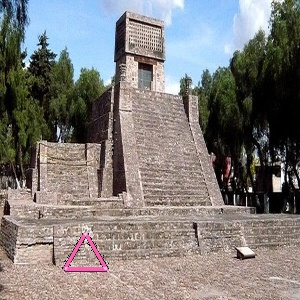triangle: (60, 229, 112, 275)
